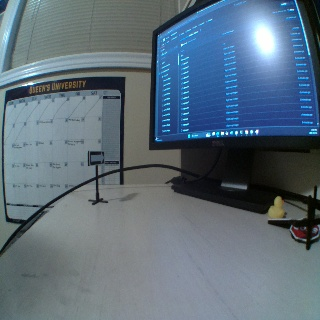sign_oneway_right: (87, 150, 104, 165)
